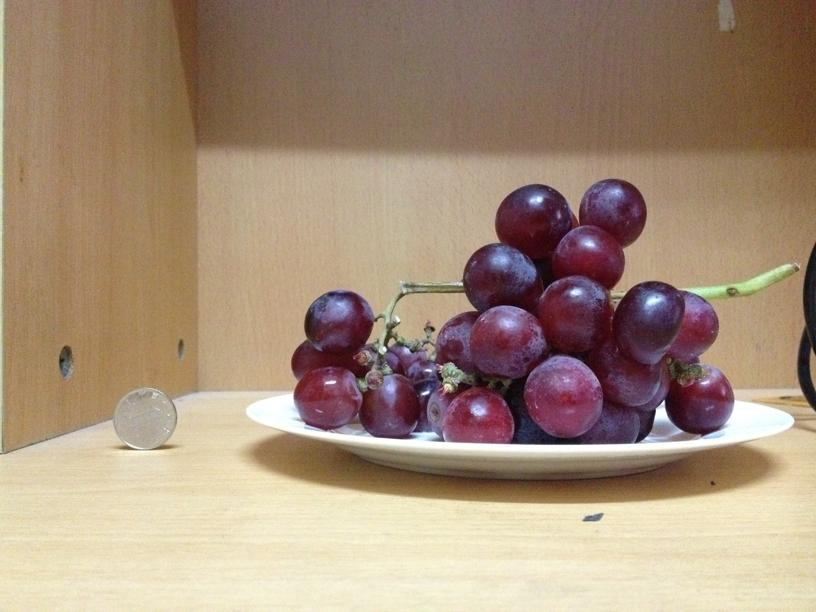coin: (111, 386, 177, 449)
grape: (275, 168, 736, 444)
